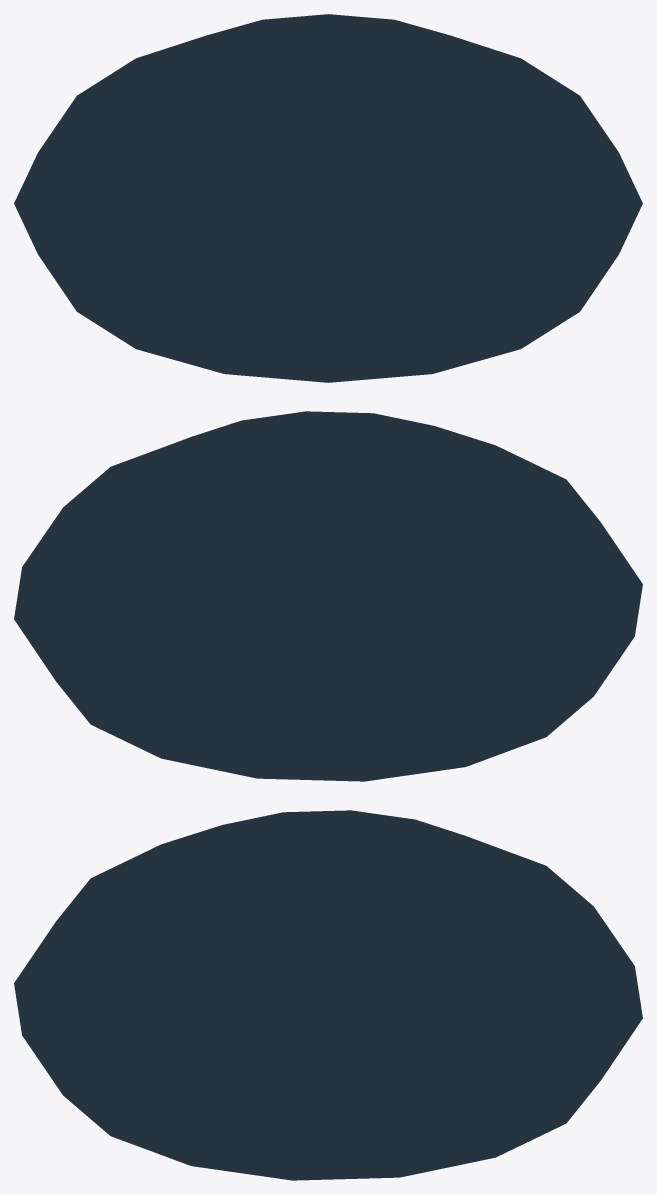
The picture shows the model from 3 angles, top to bottom: view 1: azimuth 30°, elevation 25°; view 2: azimuth 150°, elevation 25°; view 3: azimuth 270°, elevation 25°; orthographic projection.
Size of the model in its own units: 118779 by 50998 by 118780.
Materials: 34 (34 with a texture image).
